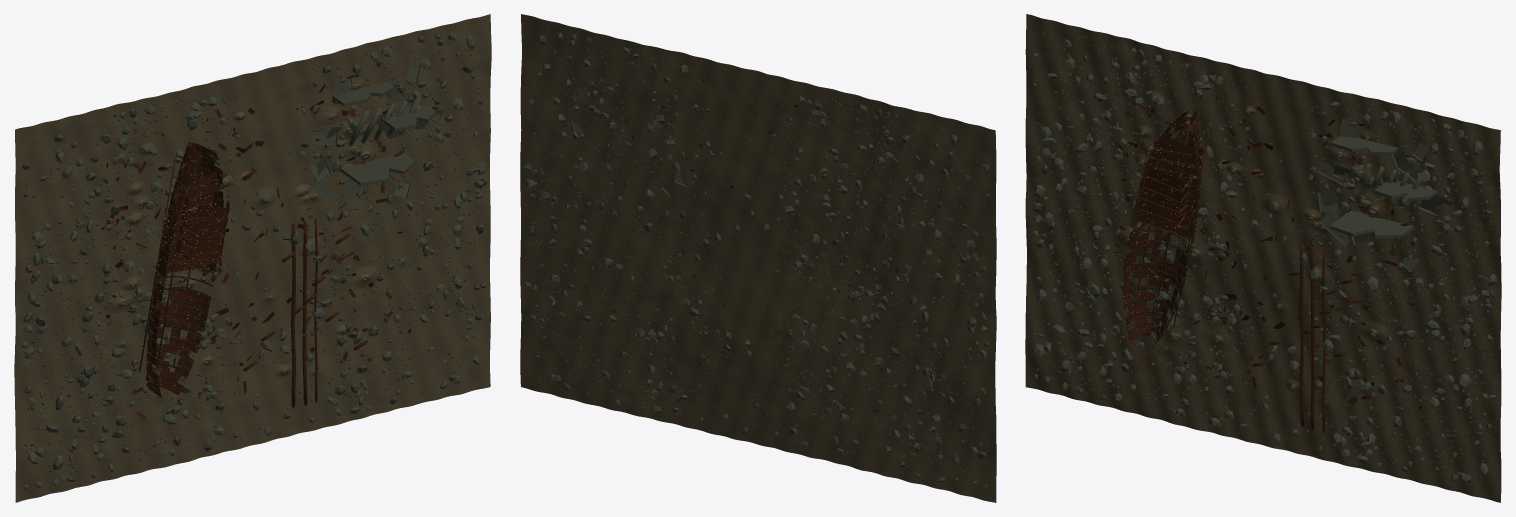
Rendered from underwater_wreck_scene.obj.
3 views of the same model, side by side, from view 1: azimuth 30°, elevation 25°; view 2: azimuth 150°, elevation 25°; view 3: azimuth 330°, elevation 25° (orthographic).
Visible parts, largest first — view 1: seabed.001, fractured_wall_0.001, buried_pipeline_1.001, fractured_wall_2.001, fractured_wall_1.001, buried_pipeline_0.001, silt_deposit_021.001, silt_deposit_023.001; view 2: seabed.001; view 3: seabed.001, fractured_wall_0.001, silt_deposit_021.001, fractured_wall_1.001, fractured_wall_2.001, buried_pipeline_0.001, buried_pipeline_1.001, silt_deposit_023.001, silt_deposit_003.001.
Boxes of the visible parts, x1,y1,x2,y2 form: seabed.001: (14,14,491,502); fractured_wall_0.001: (340,152,414,185); buried_pipeline_1.001: (302,221,307,405); fractured_wall_2.001: (332,82,393,106); fractured_wall_1.001: (381,105,435,131); buried_pipeline_0.001: (291,223,295,407); silt_deposit_021.001: (189,346,225,374); silt_deposit_023.001: (348,266,379,288); seabed.001: (520,14,996,502); seabed.001: (1025,14,1501,502); fractured_wall_0.001: (1330,211,1413,238); silt_deposit_021.001: (1198,324,1237,352); fractured_wall_1.001: (1374,180,1437,200); fractured_wall_2.001: (1331,136,1397,155); buried_pipeline_0.001: (1299,243,1304,426); buried_pipeline_1.001: (1310,246,1314,430); silt_deposit_023.001: (1358,320,1390,342); silt_deposit_003.001: (1196,299,1236,326).
Size of the model in its own units: 60 by 45 by 9.75.
